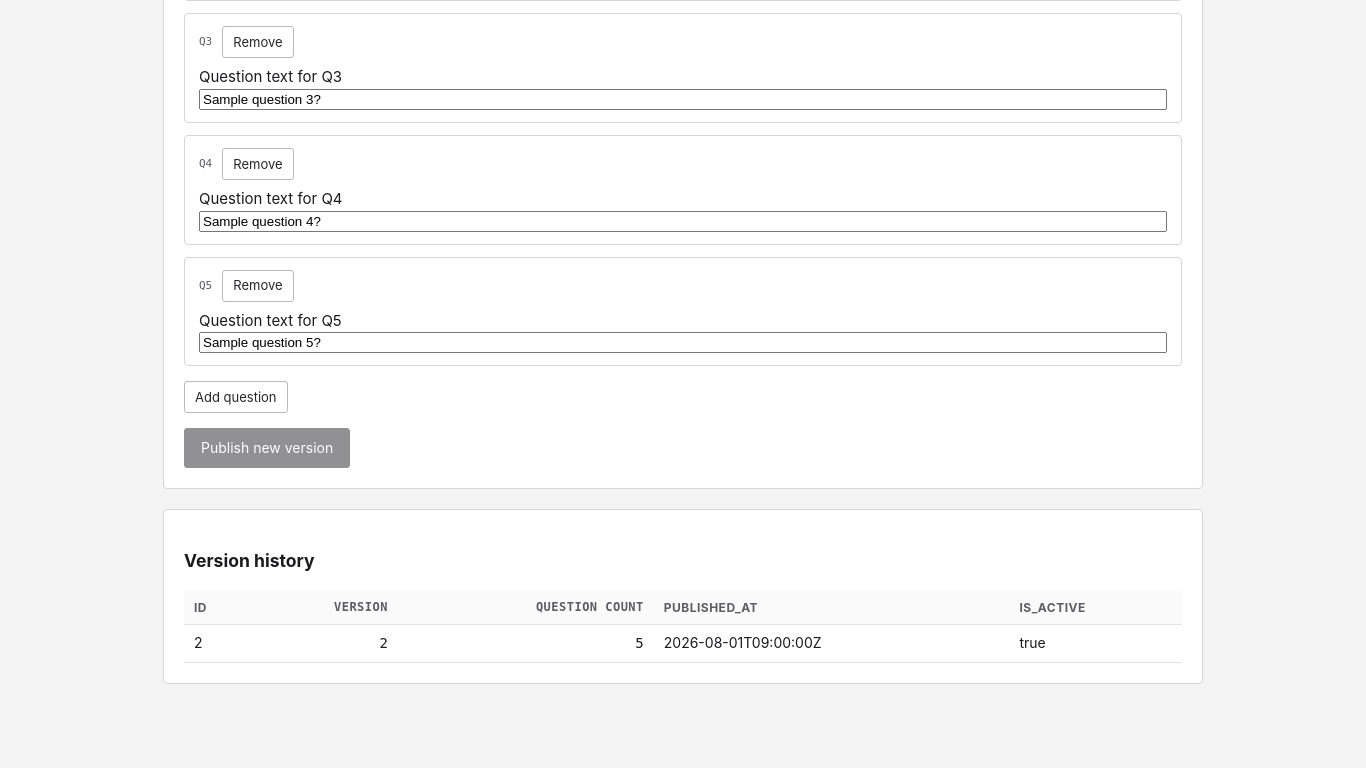
Test: RuleEditor › removing a question below 6 disables Publish again
(page scrolled)
Step 1. Click the button with test id "add-question" → (236, 397), box x1=184 y1=381 x2=288 y2=413
(page scrolled)
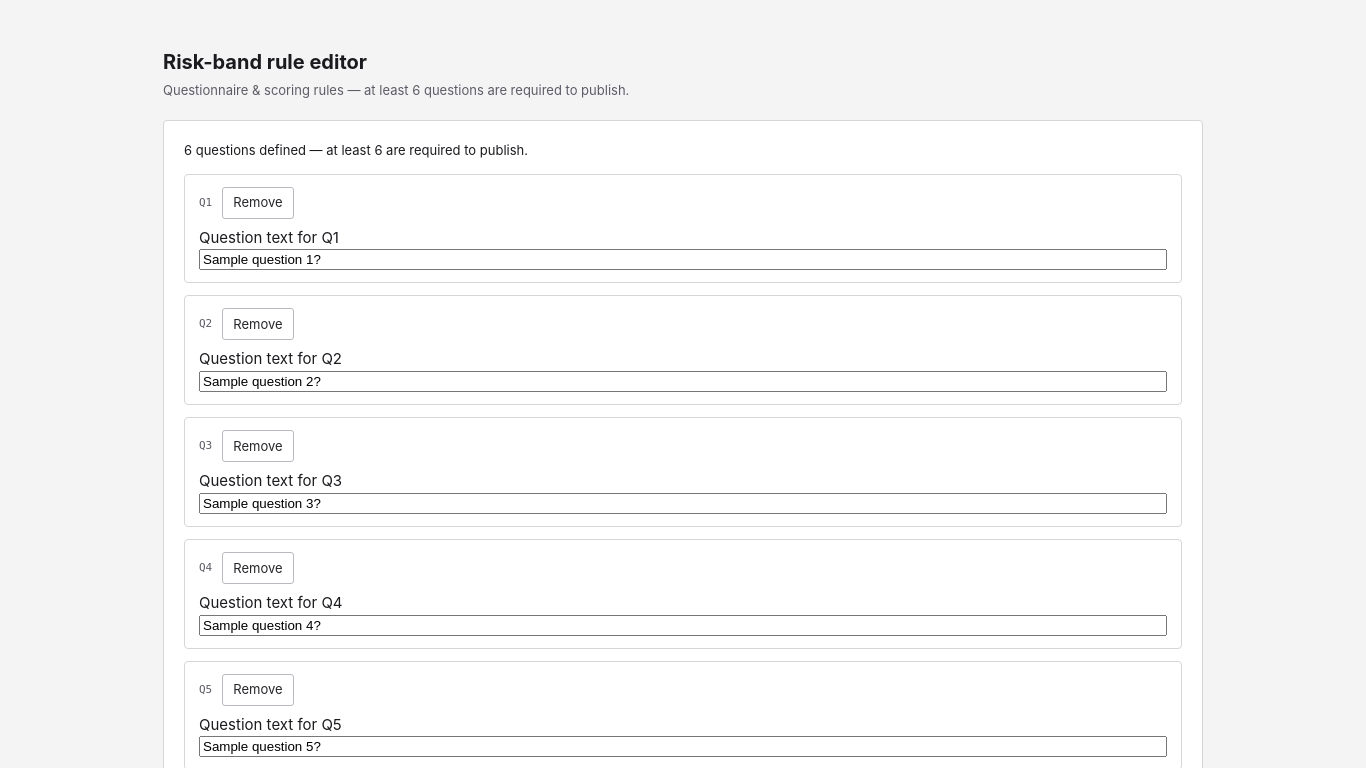
expect the text "6 questions defined — at least 6 are required to publish." is shown: met, box x1=184 y1=142 x2=528 y2=158
Step 2. Click the button with aria-label "remove question" → (258, 203), box x1=222 y1=187 x2=294 y2=219
(page scrolled)
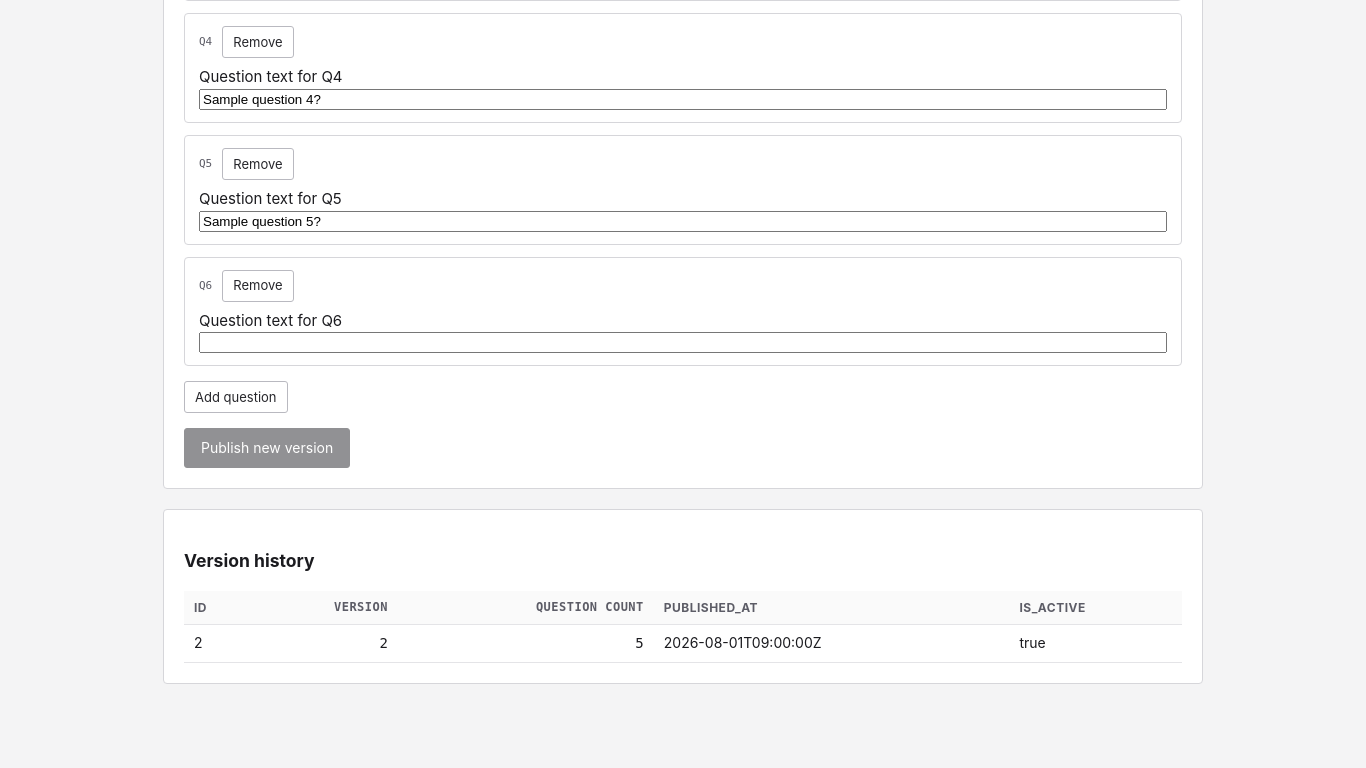
expect the button with test id "rule-publish" is disabled: met, box x1=184 y1=428 x2=350 y2=468
